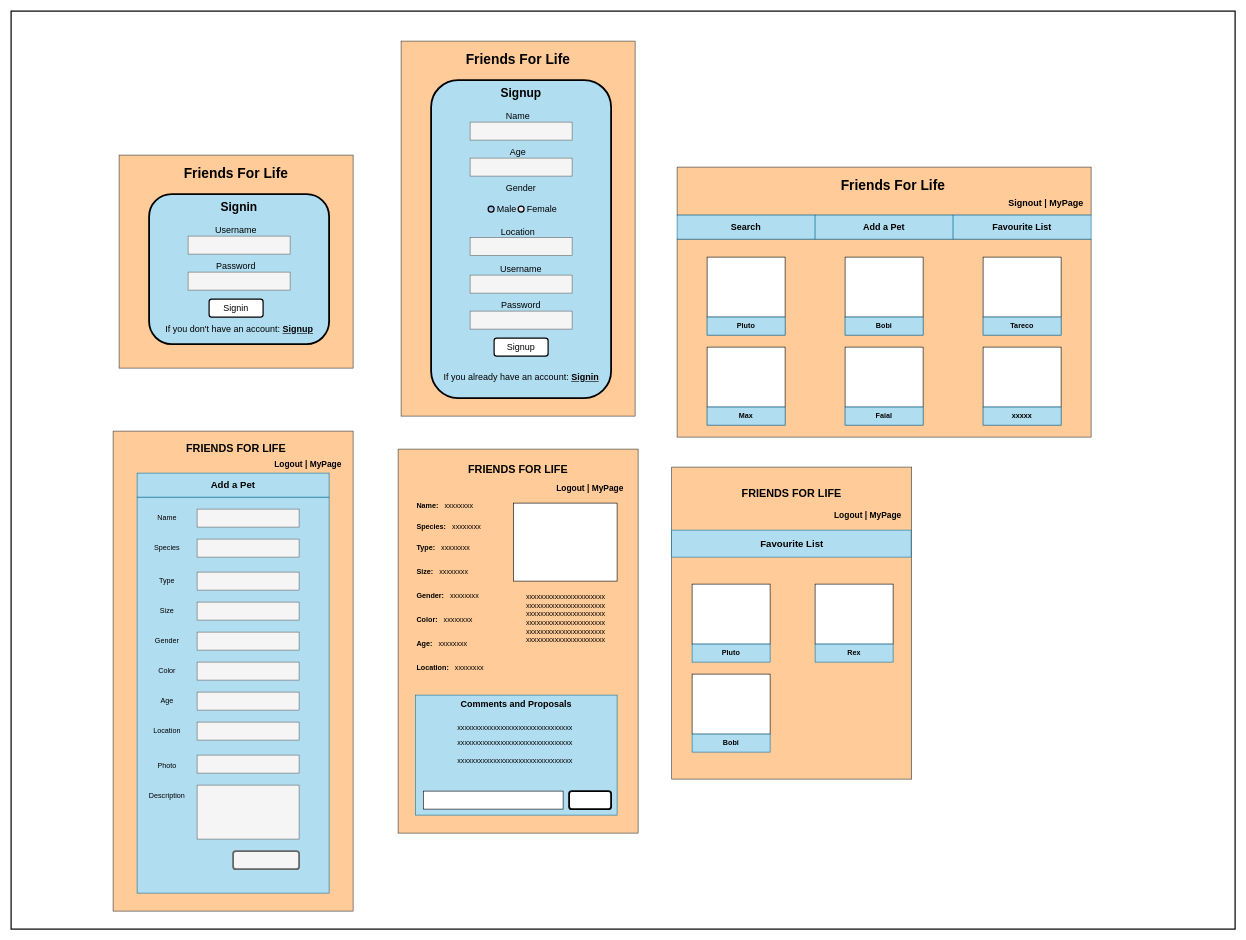
Image size: 1246x940. Some labels were removed from this diagram. Each missing label, with the centre of its shape:
Add Pet: point (266, 860)
Send: point (590, 800)
